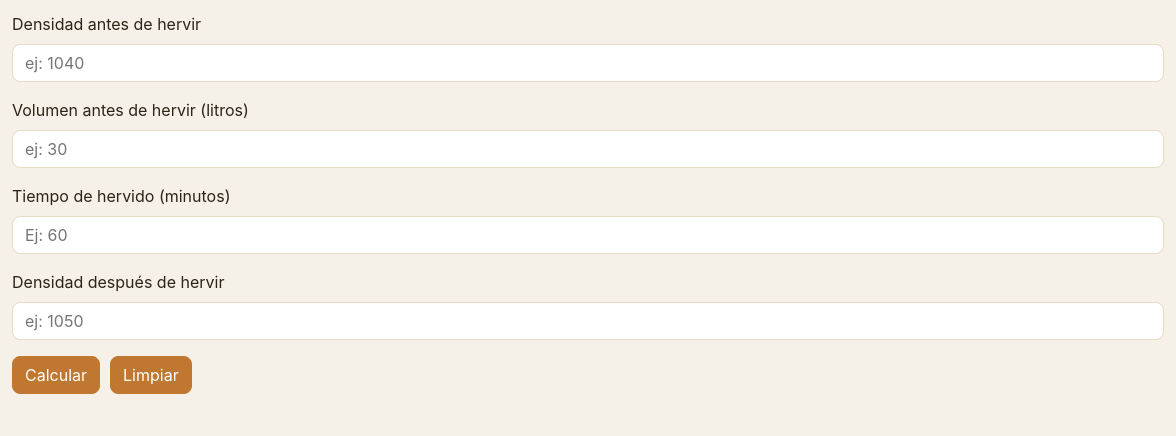
Evaporation › muestra error si la densidad inicial está vacía
Click the button "Calcular": (56,375) [12,356,100,394]
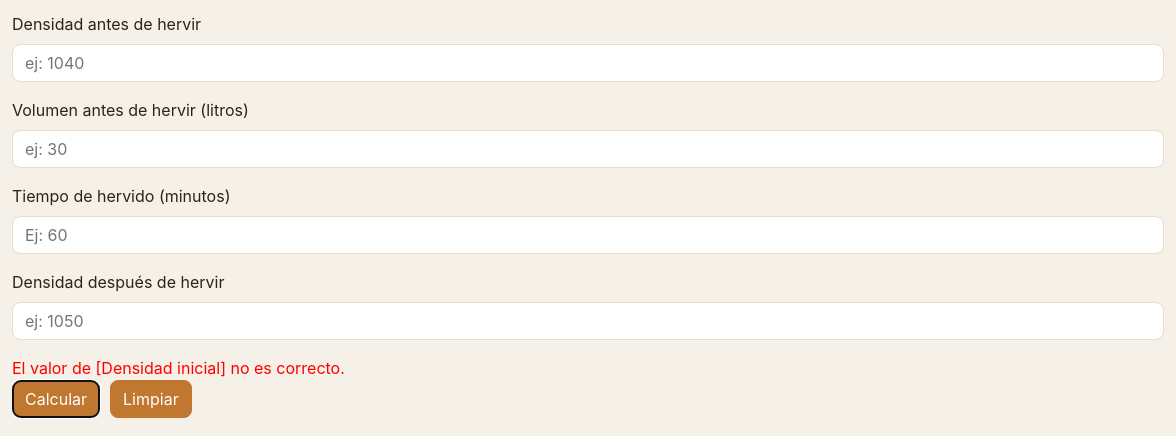
Check: the message shows "Densidad inicial", box [12,358,345,378]
